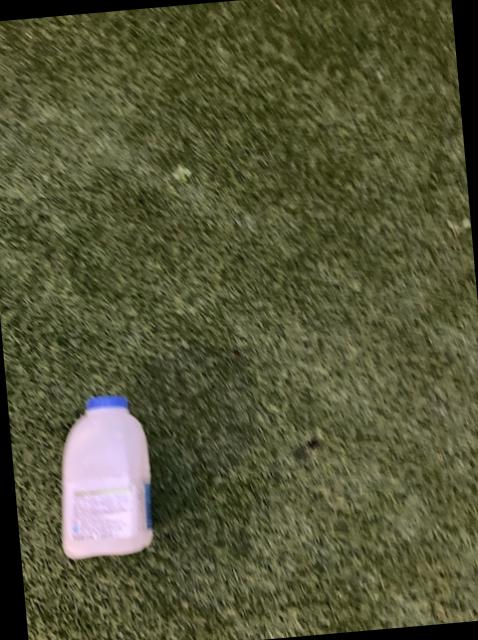plastic: (59, 393, 149, 556)
